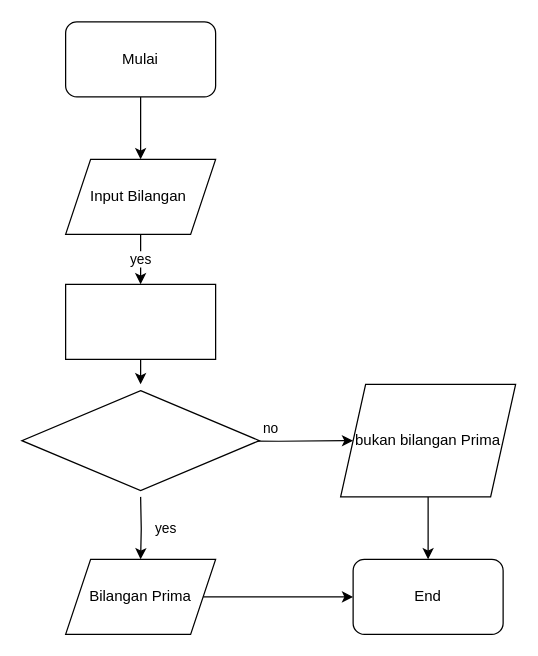
The diagram is 538 pixels wide and 656 high, and some of its shapes have lost their labels. The centre of each missing label's shape, as x and y in pixels:
for i = 2 ; i <= bilangan;i++: [140,321]
if bilangan%i == 0 and faktor ==2: [140,440]
